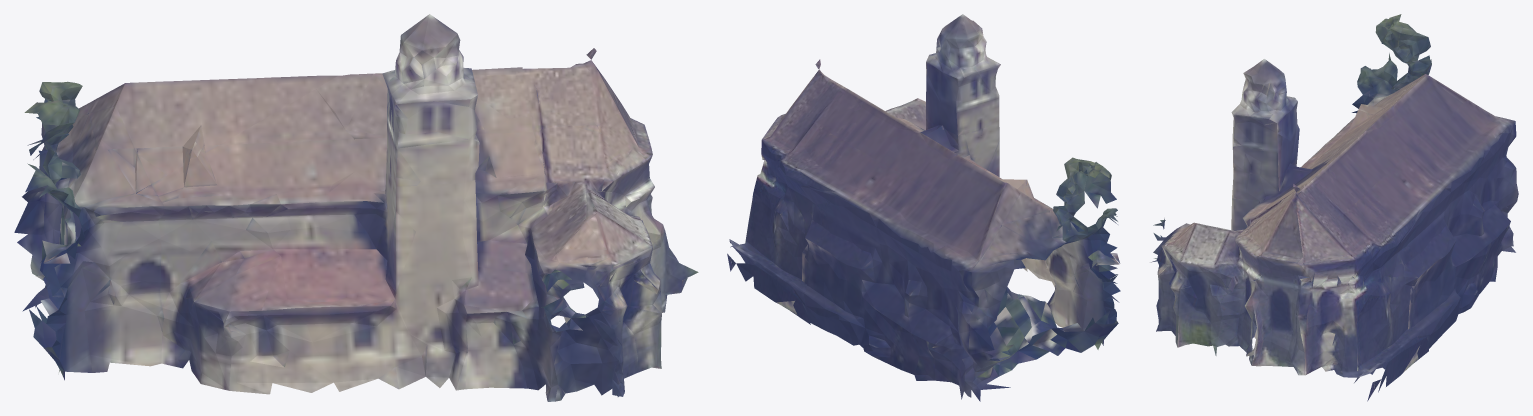
File: temple-de-la-madeleine.glb
3 renders of one model, left to right at view 1: azimuth 30°, elevation 25°; view 2: azimuth 150°, elevation 25°; view 3: azimuth 270°, elevation 25°, orthographic. The views are drawn at different scales.
Bounding box in the file's own units: 46.71 × 29.34 × 37.74.
Materials: 2 (2 with a texture image).
